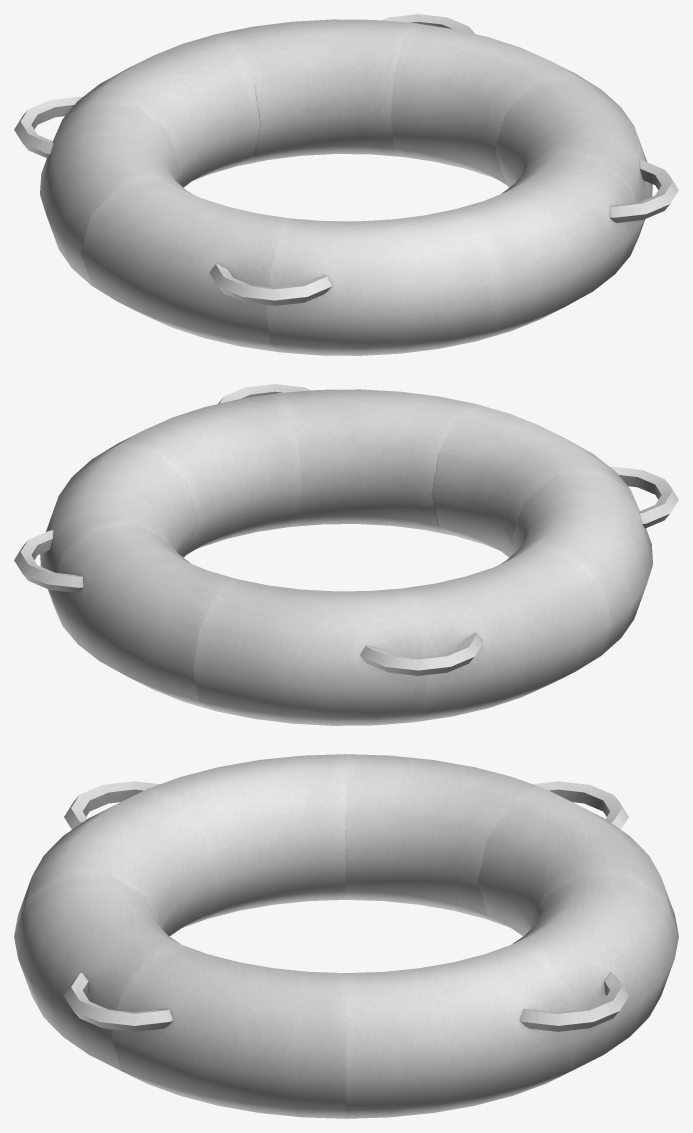
Rendered from LifeRing.fbx.
The picture shows the model from 3 angles, top to bottom: view 1: azimuth 30°, elevation 25°; view 2: azimuth 150°, elevation 25°; view 3: azimuth 270°, elevation 25°; orthographic projection. The views are drawn at different scales.
Parts seen in each view (by area): view 1: LifeRing; view 2: LifeRing; view 3: LifeRing.
Boxes of the visible parts, box(x1,y1,x2,y2) form: LifeRing: box(14, 14, 678, 355); LifeRing: box(14, 384, 678, 725); LifeRing: box(14, 754, 678, 1118).
Size of the model in its own units: 0.77 by 0.1617 by 0.77.
